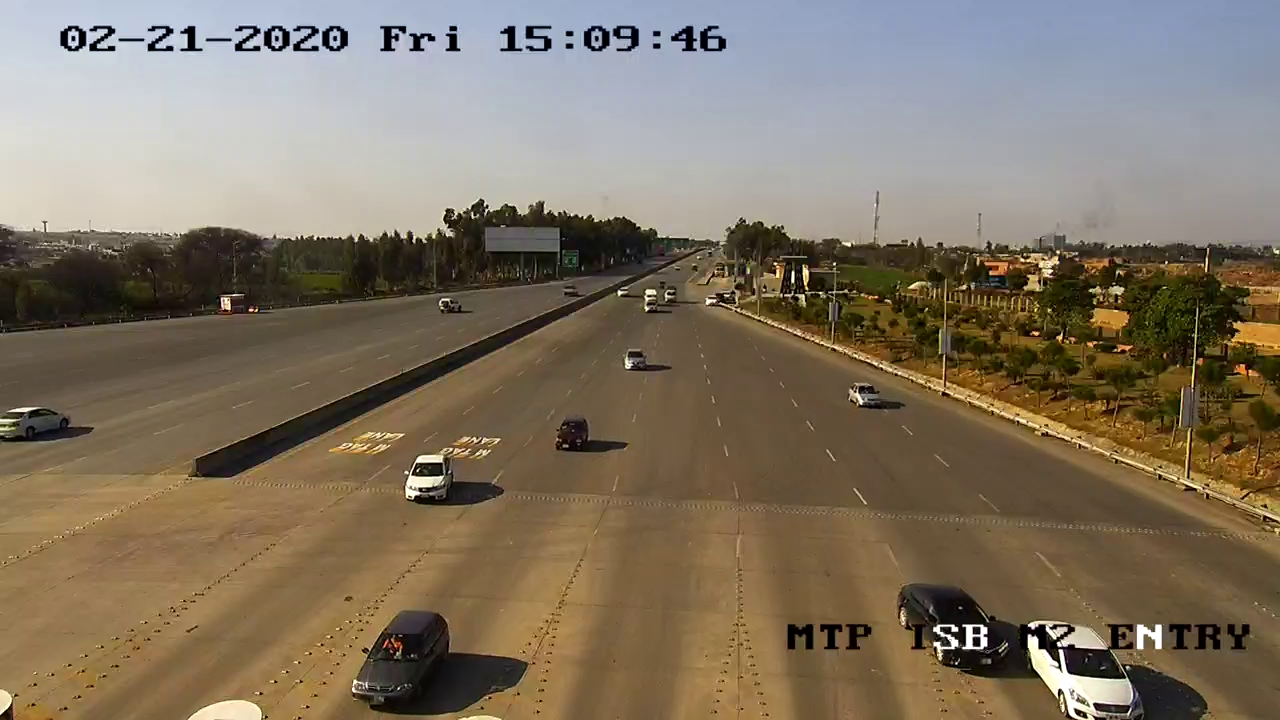f1: (341, 602, 460, 712), (397, 448, 456, 509), (551, 410, 596, 457), (843, 374, 891, 416)
